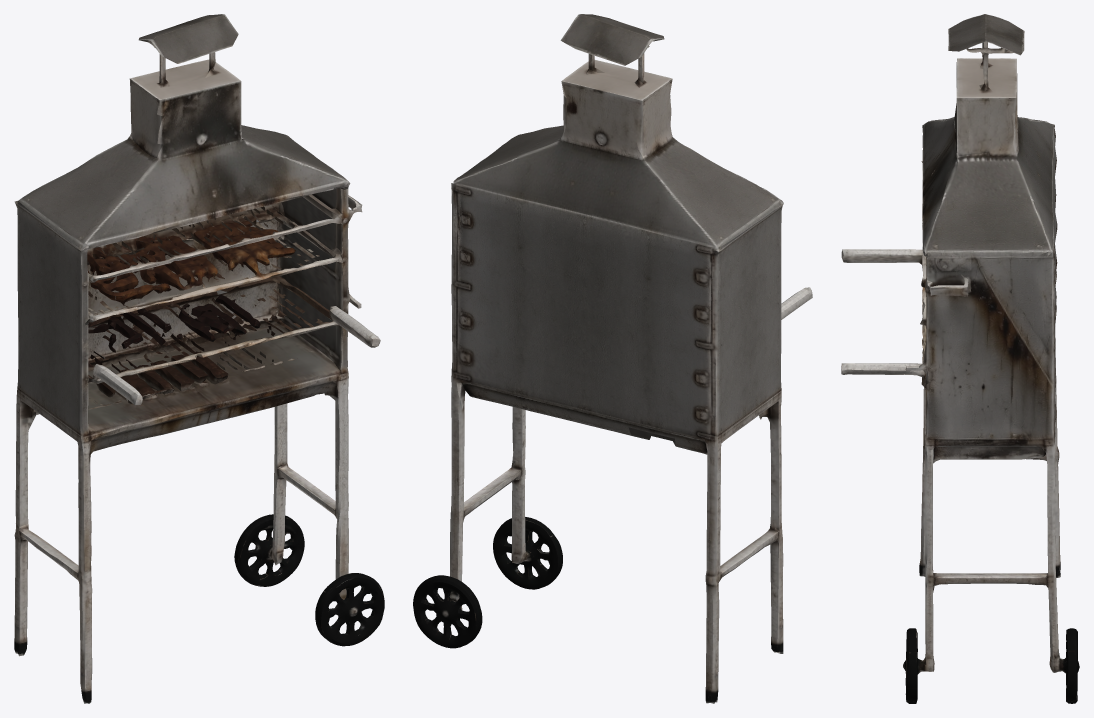
File: carrinhoespeto_texture.fbx
The picture shows the model from 3 angles, left to right: view 1: azimuth 30°, elevation 25°; view 2: azimuth 150°, elevation 25°; view 3: azimuth 270°, elevation 25°; orthographic projection.
Visible parts, largest first — view 1: Mesh0; view 2: Mesh0; view 3: Mesh0.
Boxes of the visible parts, bbox=[...] form: Mesh0: bbox=[14, 14, 384, 703]; Mesh0: bbox=[413, 14, 812, 703]; Mesh0: bbox=[841, 14, 1079, 703].
Size of the model in its own units: 94.34 by 189 by 66.42.
1 material, 1 textured.
